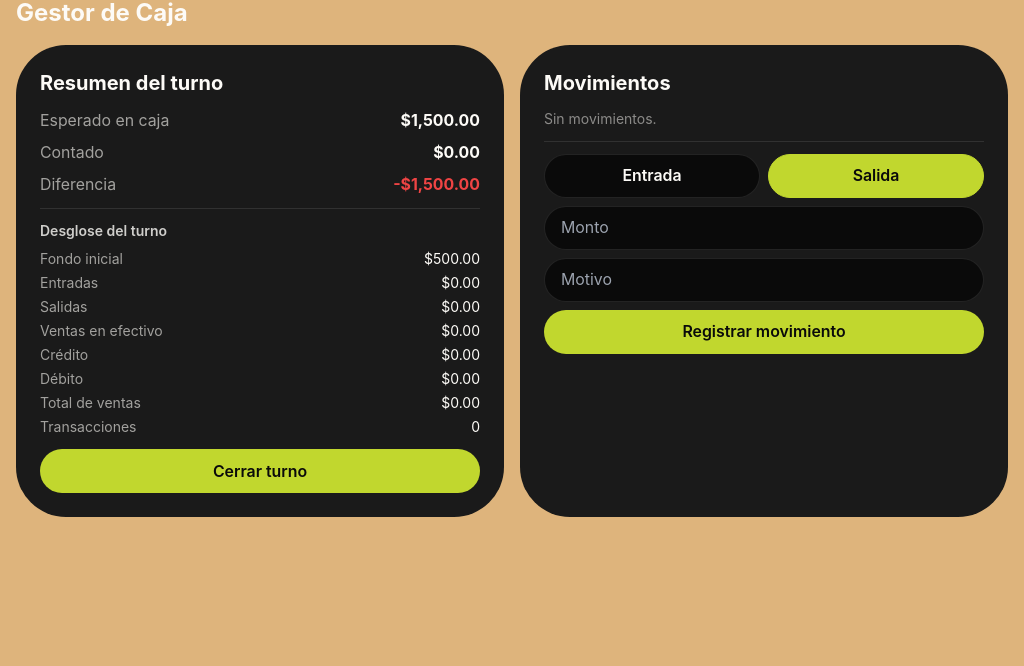
Test: F10.6.1 — criterio 2: teclear construye el monto › no deja ceros a la izquierda
Expected: the heading "Resumen del turno" is shown, [40,71,223,95]
Focus the field with test id "campo-montoMov" at (764, 228), box [544,206,984,250]
(page scrolled)
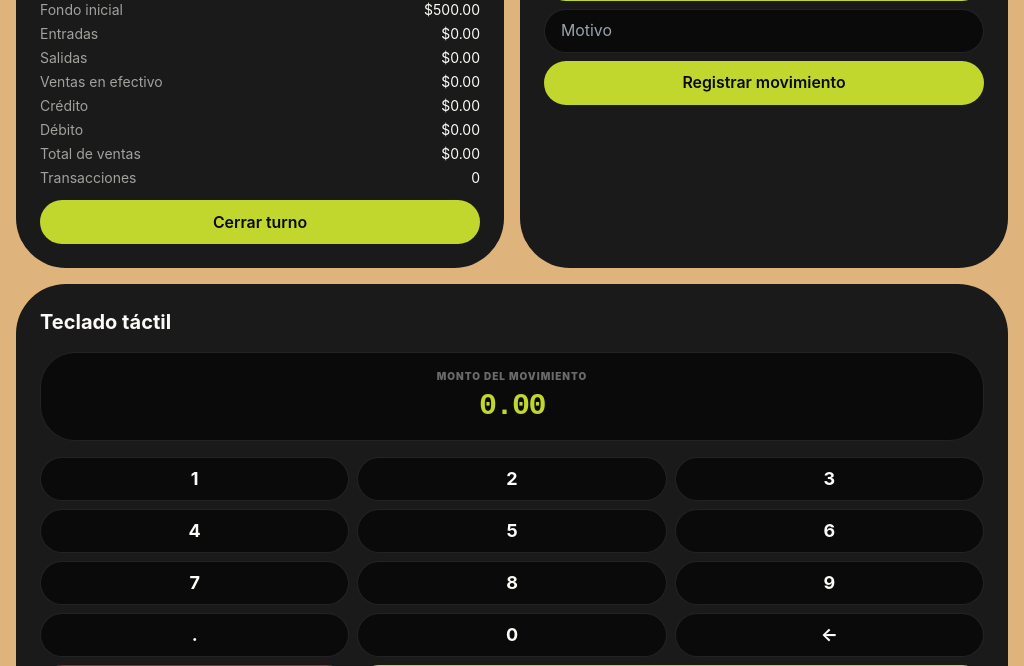
Click the button "0" at (512, 635), box [357,613,667,657]
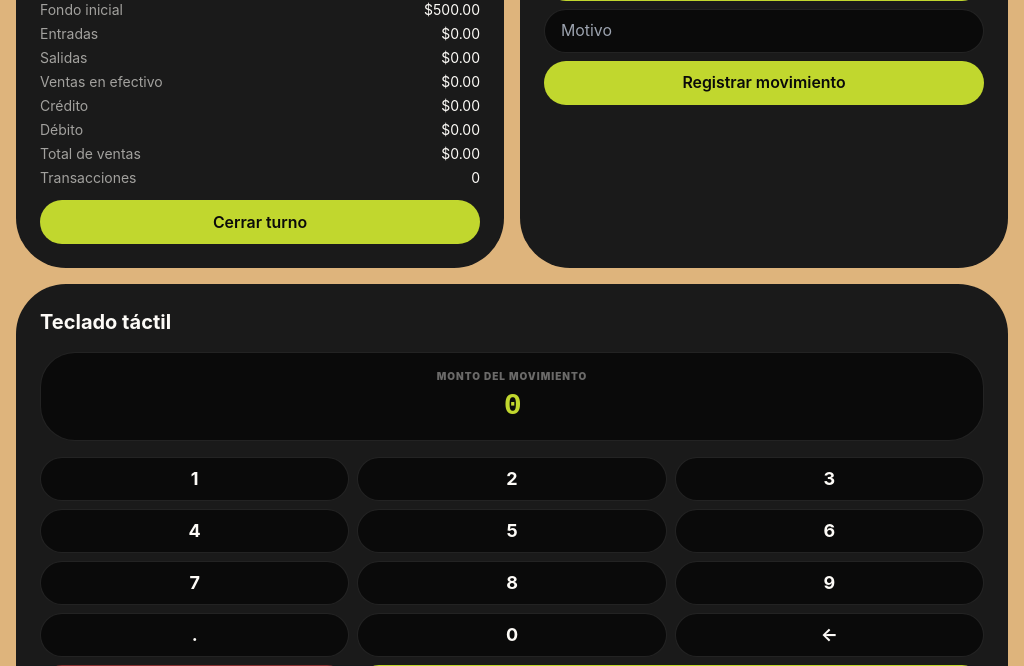
Click the button "5" at (512, 531), box [357,509,667,553]
(page scrolled)
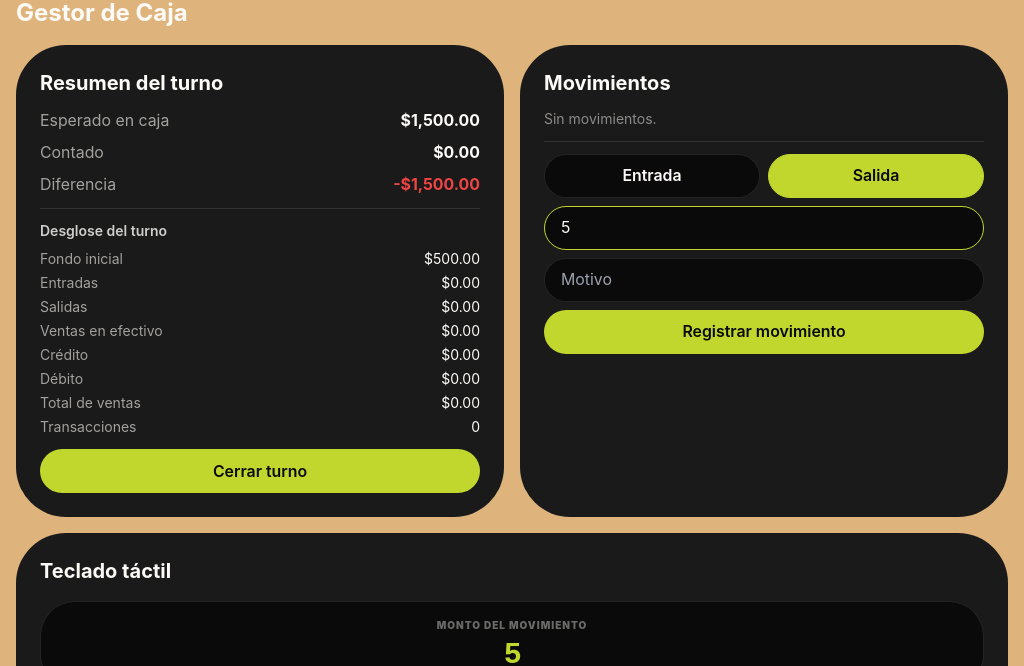
Expected: the field with test id "campo-montoMov" holds "5", [544,206,984,250]
